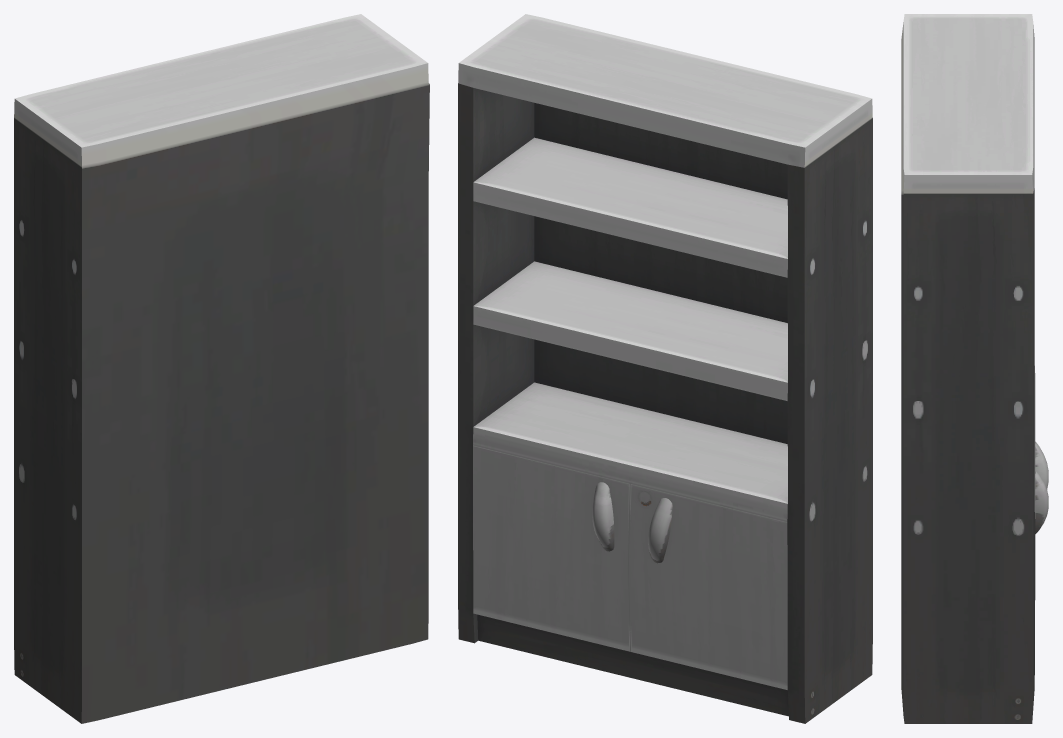
Rendered from OfficeCabinet01.fbx.
The picture shows the model from 3 angles, left to right: view 1: azimuth 30°, elevation 25°; view 2: azimuth 150°, elevation 25°; view 3: azimuth 270°, elevation 25°; orthographic projection. The views are drawn at different scales.
Visible parts, largest first — view 1: OfficeCabinet01A 1; view 2: OfficeCabinet01A 1; view 3: OfficeCabinet01A 1.
Boxes of the visible parts, left/top/right/bottom form: OfficeCabinet01A 1: left=14, top=14, right=429, bottom=723; OfficeCabinet01A 1: left=458, top=14, right=872, bottom=723; OfficeCabinet01A 1: left=901, top=14, right=1048, bottom=723.
Size of the model in its own units: 1.6 by 2.55 by 0.6207.
1 material, 1 textured.
